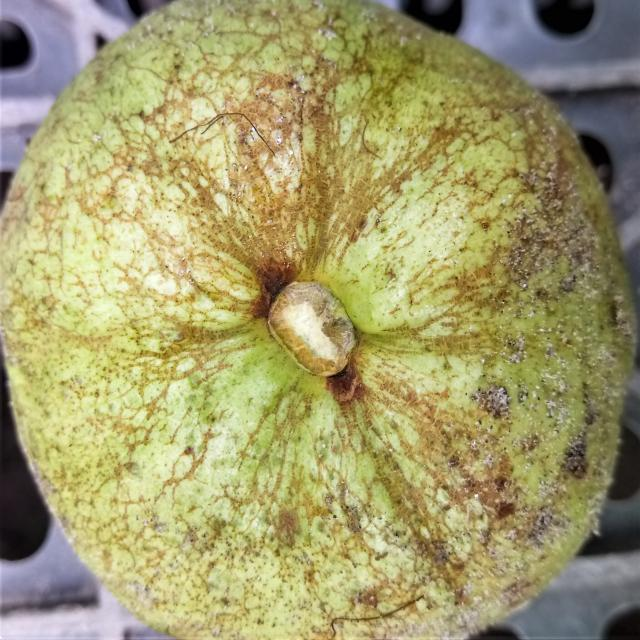Scab: (0, 3, 634, 638)
